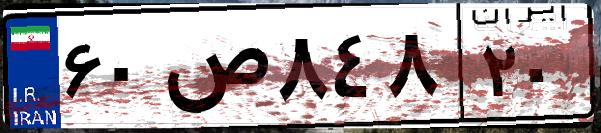0: (525, 38, 570, 115), (110, 28, 158, 98)
2: (475, 38, 525, 113)
4: (330, 28, 385, 110)
6: (57, 26, 110, 100)
8: (270, 28, 330, 110), (385, 28, 445, 110)
ص: (158, 20, 270, 120)
